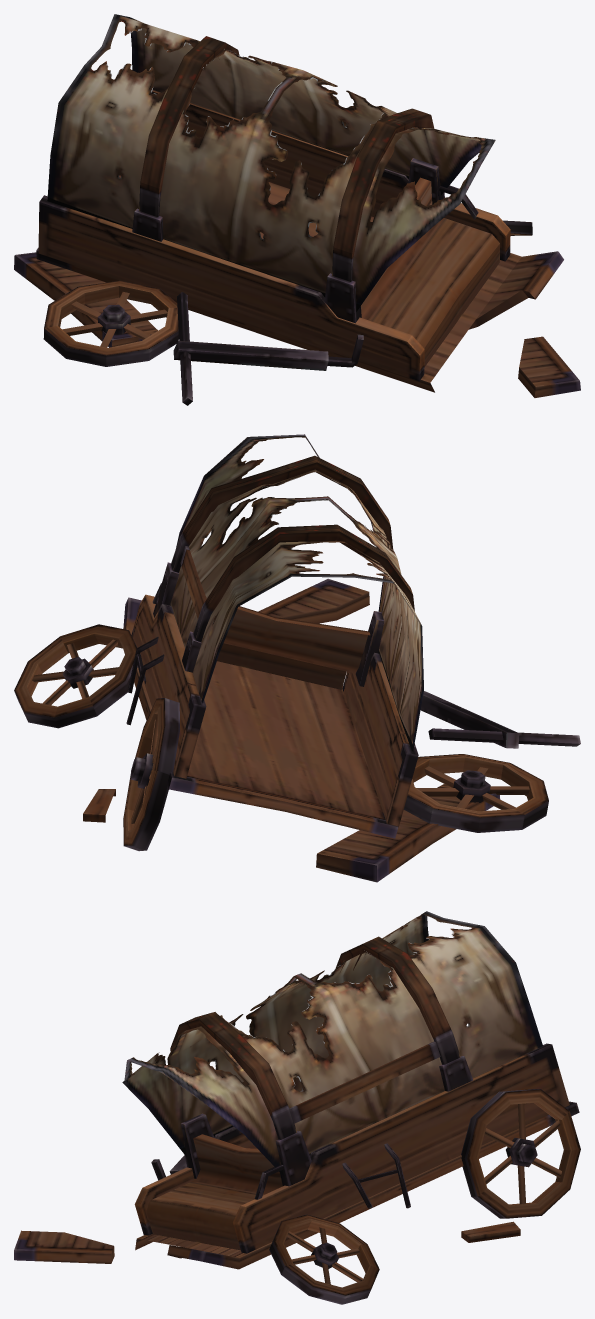
The model's file is 2_YiZhan_HuoMaChe_01.FBX.
3 renders of one model, top to bottom at view 1: azimuth 30°, elevation 25°; view 2: azimuth 150°, elevation 25°; view 3: azimuth 270°, elevation 25°, orthographic. The views are drawn at different scales.
Visible parts, largest first — view 1: 2_YiZhan_HuoMaChe_01, 2_YiZhan_HuoMaChe_03, 2_YiZhan_HuoMaChe_04, 2_YiZhan_HuoMaChe_02, 2_YiZhan_HuoMaChe_05; view 2: 2_YiZhan_HuoMaChe_01, 2_YiZhan_HuoMaChe_03, 2_YiZhan_HuoMaChe_02, 2_YiZhan_HuoMaChe_04, 2_YiZhan_HuoMaChe_05; view 3: 2_YiZhan_HuoMaChe_01, 2_YiZhan_HuoMaChe_05.
Part boxes in pixels (x1,y1,x2,y2): 2_YiZhan_HuoMaChe_01: (36, 14, 563, 392); 2_YiZhan_HuoMaChe_03: (43, 280, 178, 366); 2_YiZhan_HuoMaChe_04: (173, 292, 363, 405); 2_YiZhan_HuoMaChe_02: (14, 252, 157, 347); 2_YiZhan_HuoMaChe_05: (518, 336, 580, 397); 2_YiZhan_HuoMaChe_01: (14, 434, 423, 851); 2_YiZhan_HuoMaChe_03: (403, 754, 548, 832); 2_YiZhan_HuoMaChe_02: (316, 784, 500, 882); 2_YiZhan_HuoMaChe_04: (420, 691, 580, 748); 2_YiZhan_HuoMaChe_05: (258, 578, 369, 623); 2_YiZhan_HuoMaChe_01: (122, 911, 580, 1304); 2_YiZhan_HuoMaChe_05: (14, 1230, 114, 1263).
Bounding box in the file's own units: 811 × 460 × 905.
